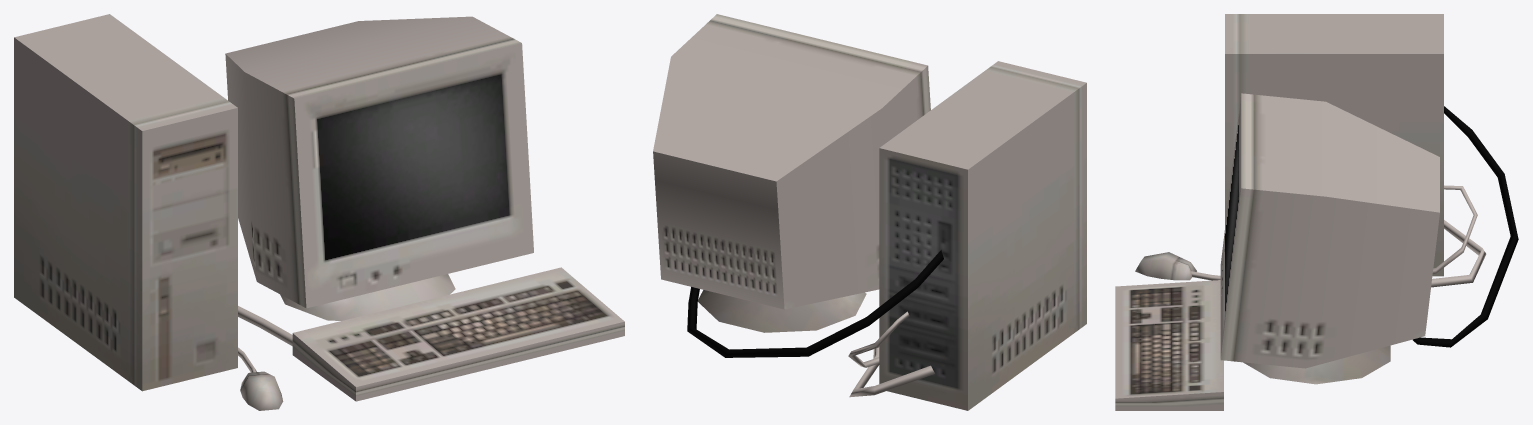
The model's file is deskcomp.fbx.
The picture shows the model from 3 angles, left to right: view 1: azimuth 30°, elevation 25°; view 2: azimuth 150°, elevation 25°; view 3: azimuth 270°, elevation 25°; orthographic projection. The views are drawn at different scales.
Parts seen in each view (by area): view 1: mesh_0; view 2: mesh_0; view 3: mesh_0.
Part boxes in pixels (bbox=[...]): mesh_0: bbox=[14, 14, 624, 410]; mesh_0: bbox=[653, 14, 1086, 410]; mesh_0: bbox=[1115, 14, 1518, 410].
Size of the model in its own units: 84.42 by 50.14 by 82.39.
Materials: 1 (1 with a texture image).
